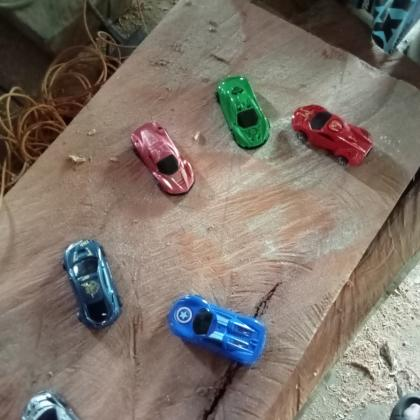Car: (167, 293, 268, 367), (62, 238, 122, 332), (291, 102, 374, 168), (130, 120, 194, 197), (212, 76, 272, 148)
